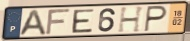6: (97, 7, 117, 34)
A: (17, 9, 48, 38)
E: (72, 8, 96, 34)
F: (44, 7, 72, 36)
H: (117, 5, 146, 34)
P: (143, 5, 169, 33)
